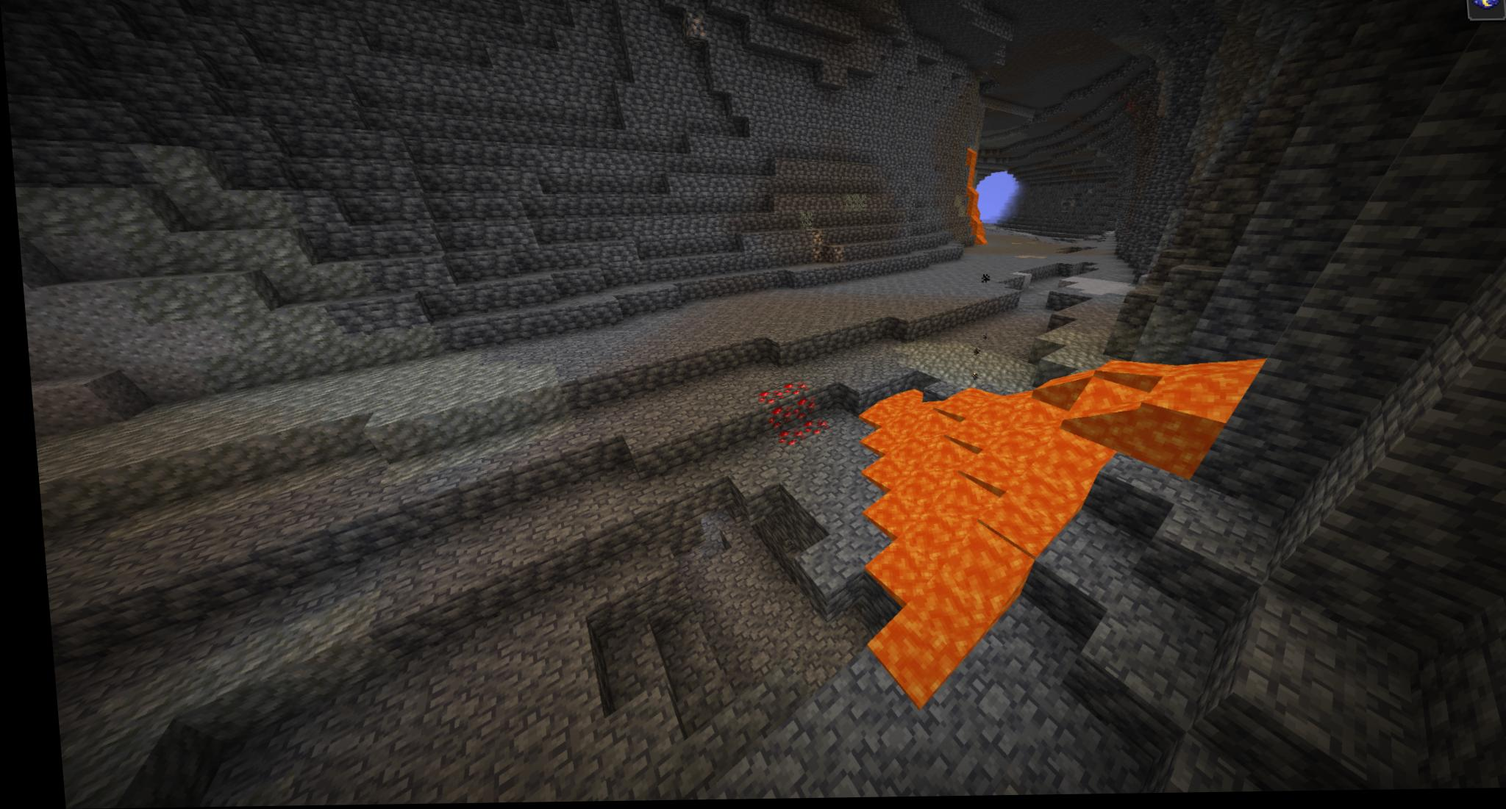redstone ore: (752, 387, 784, 425), (778, 386, 807, 418), (766, 430, 800, 454), (793, 418, 821, 443)
